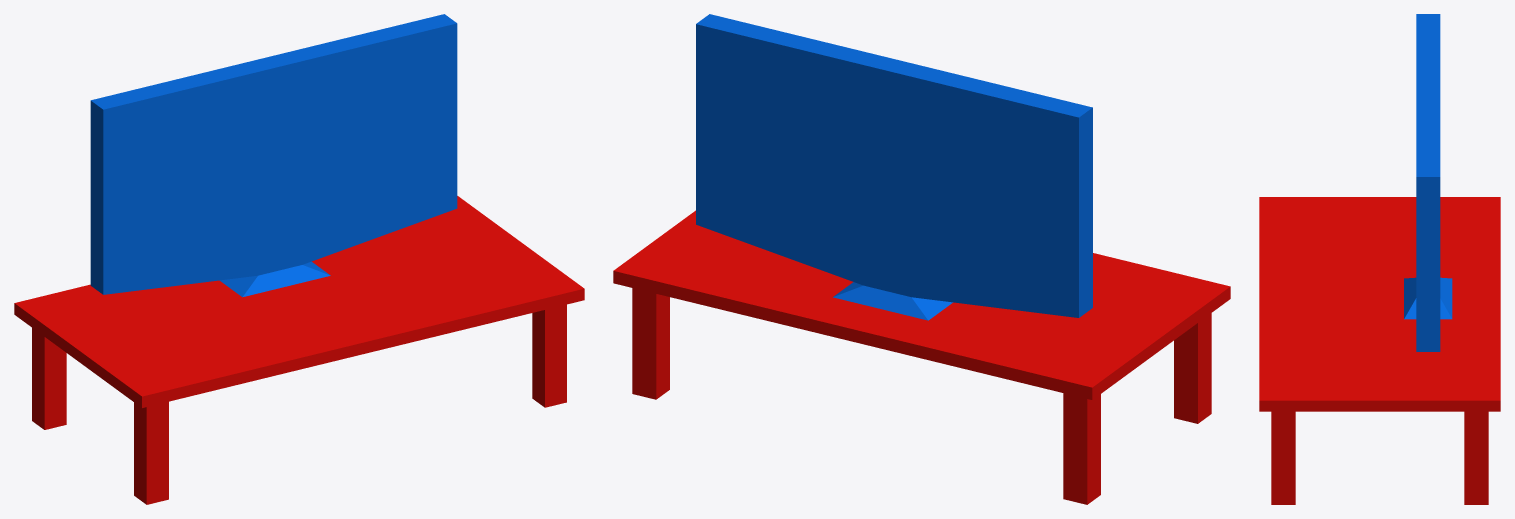
Rendered from computer.fbx.
3 views of the same model, side by side, from view 1: azimuth 30°, elevation 25°; view 2: azimuth 150°, elevation 25°; view 3: azimuth 270°, elevation 25° (orthographic). The views are drawn at different scales.
Parts seen in each view (by area): view 1: computer; view 2: computer; view 3: computer.
Boxes of the visible parts, box(x1,y1,x2,y2) form: computer: box(14, 14, 584, 504); computer: box(613, 14, 1230, 504); computer: box(1259, 14, 1500, 504).
Size of the model in its own units: 400 by 286 by 200.
